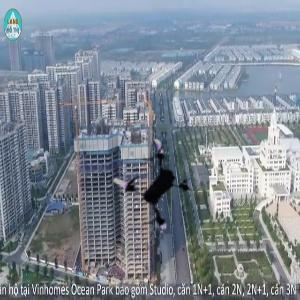drone: (104, 136, 200, 232)
